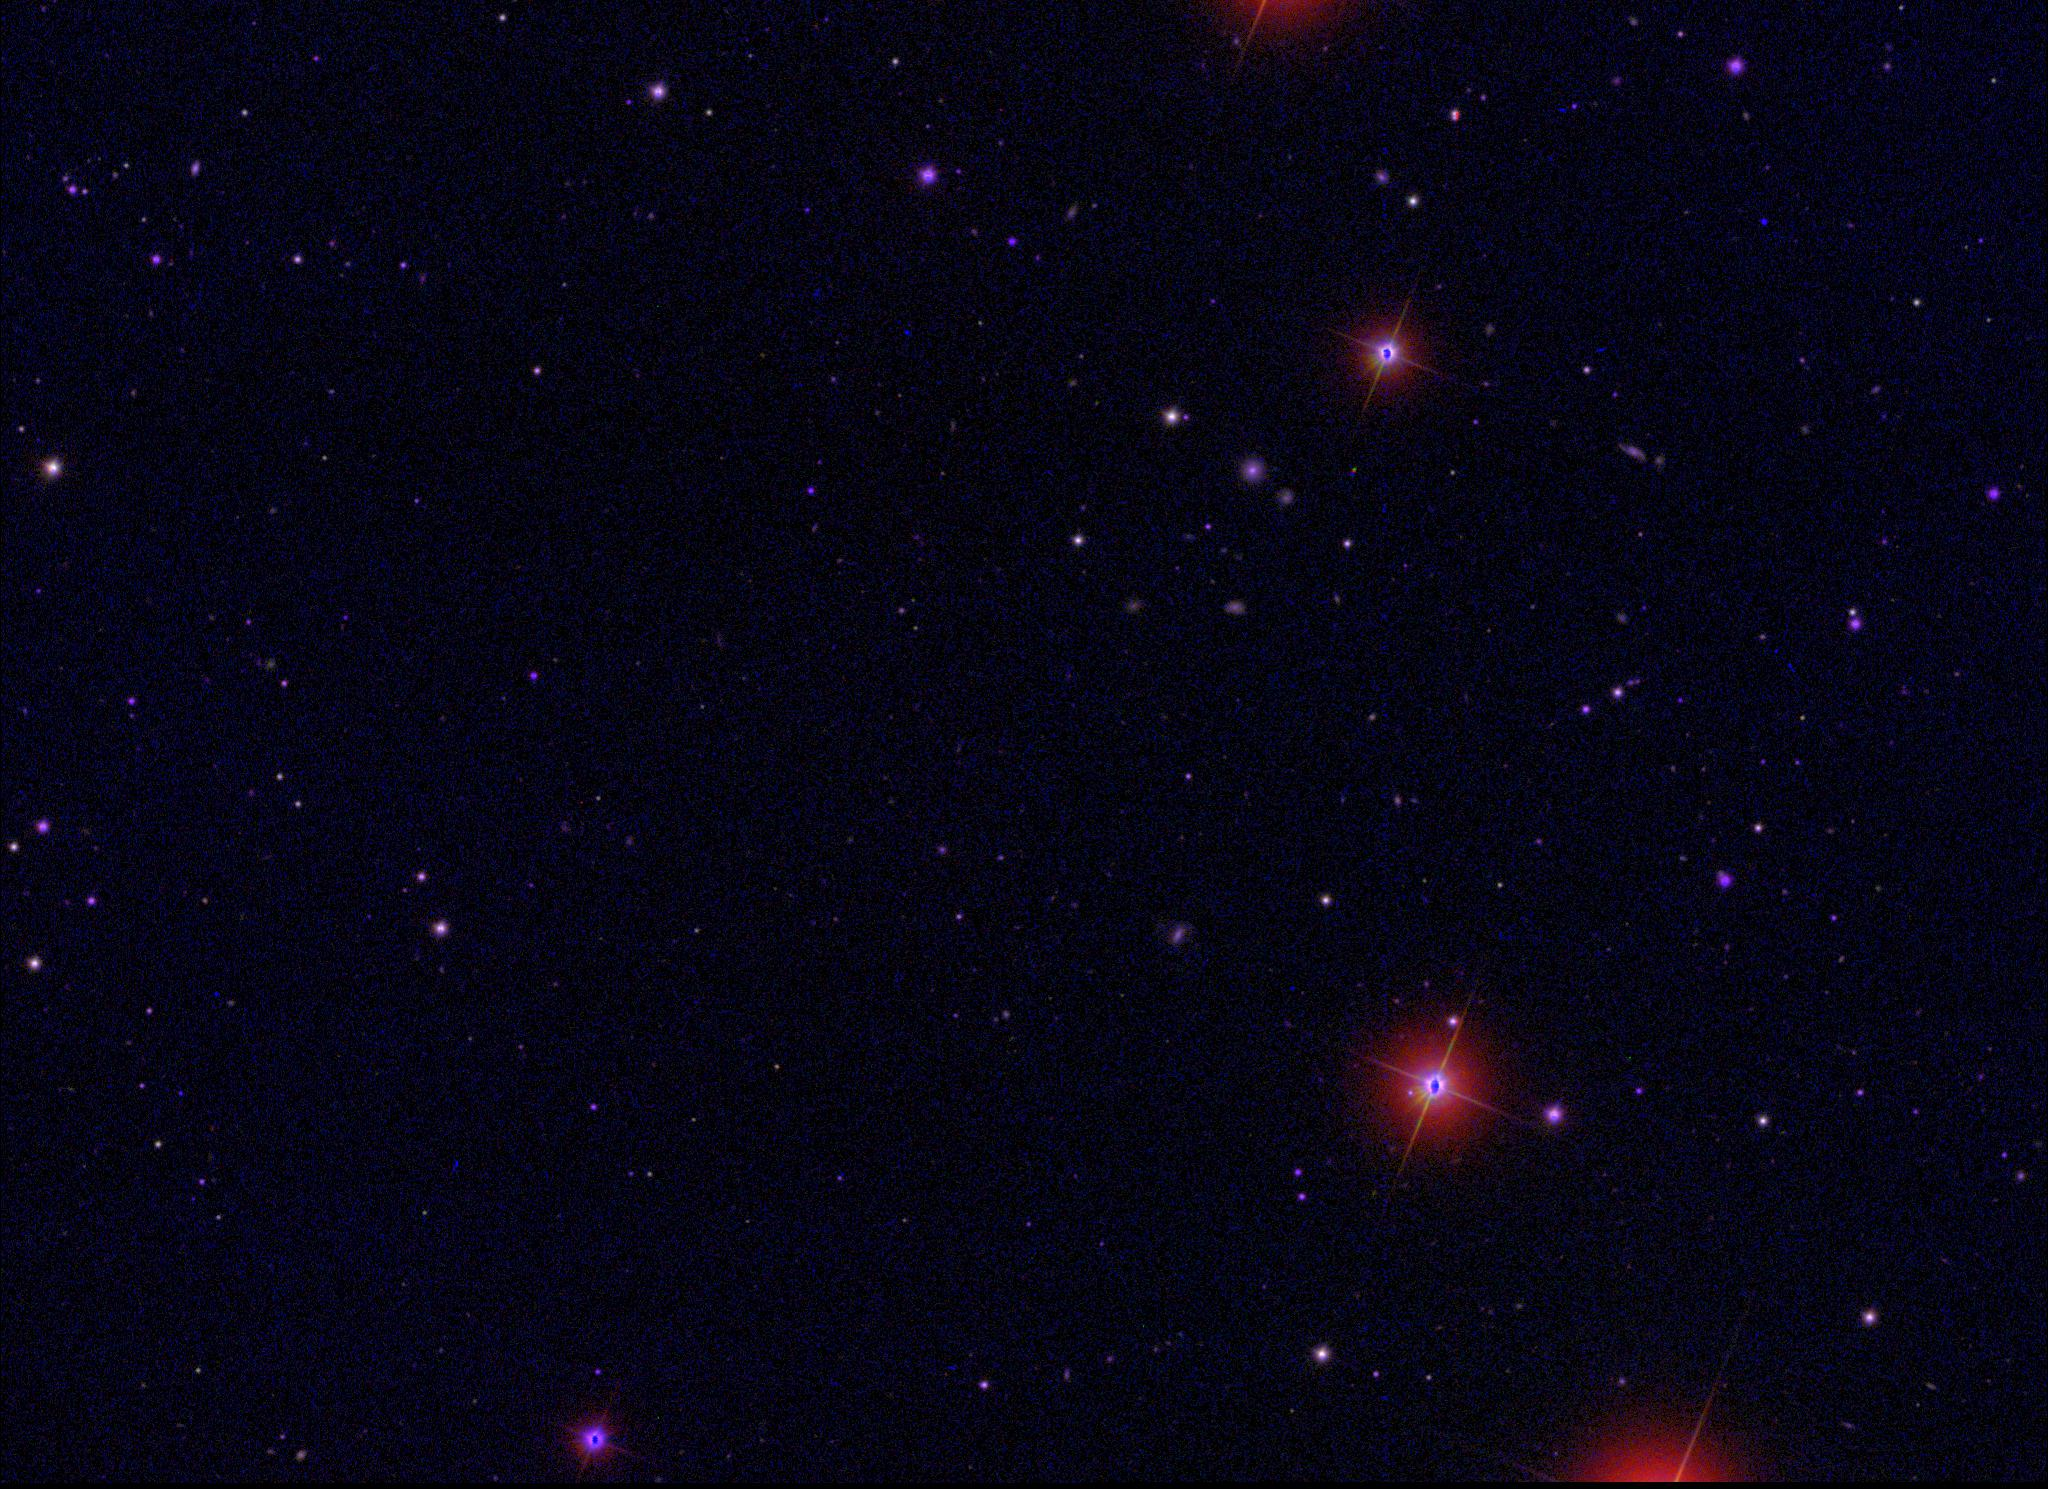L: (1757, 215, 1771, 229)
